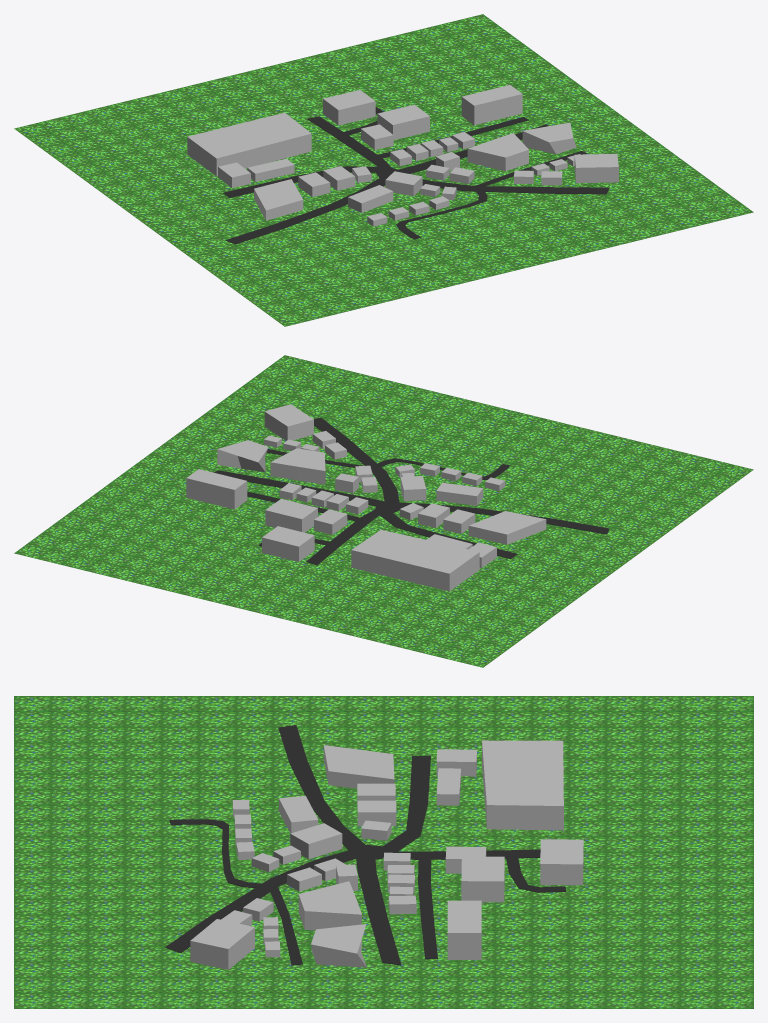
The model's file is town4b.glb.
The picture shows the model from 3 angles, top to bottom: view 1: azimuth 30°, elevation 25°; view 2: azimuth 150°, elevation 25°; view 3: azimuth 270°, elevation 25°; orthographic projection. The views are drawn at different scales.
Visible parts, largest first — view 1: Plane.001, Plane, Cube.021, Cube, Cube.011, Cube.020, Cube.024, Cube.001, Cube.034, Cube.012, Cube.016, Cube.023 (+5 smaller); view 2: Plane.001, Plane, Cube.021, Cube, Cube.020, Cube.011, Cube.024, Cube.034, Cube.001, Cube.012, Cube.016, Cube.002 (+3 smaller); view 3: Plane.001, Plane, Cube.021, Cube.020, Cube.034, Cube.011, Cube, Cube.024, Cube.001, Cube.012, Cube.013, Cube.016 (+8 smaller).
Boxes of the visible parts, x1=… form: Plane.001: x1=14, y1=14, x2=753, y2=326; Plane: x1=223, y1=107, x2=609, y2=244; Cube.021: x1=187, y1=112, x2=311, y2=176; Cube: x1=461, y1=85, x2=522, y2=125; Cube.011: x1=467, y1=133, x2=528, y2=171; Cube.020: x1=254, y1=179, x2=303, y2=220; Cube.024: x1=323, y1=90, x2=375, y2=125; Cube.001: x1=377, y1=104, x2=429, y2=139; Cube.034: x1=574, y1=153, x2=618, y2=183; Cube.012: x1=522, y1=122, x2=576, y2=154; Cube.016: x1=348, y1=185, x2=393, y2=212; Cube.023: x1=247, y1=158, x2=294, y2=181; Plane.001: x1=14, y1=355, x2=753, y2=667; Plane: x1=213, y1=417, x2=609, y2=565; Cube.021: x1=351, y1=530, x2=479, y2=591; Cube: x1=186, y1=469, x2=247, y2=509; Cube.020: x1=468, y1=511, x2=546, y2=544; Cube.011: x1=270, y1=448, x2=325, y2=484; Cube.024: x1=262, y1=526, x2=314, y2=561; Cube.034: x1=264, y1=404, x2=313, y2=440; Cube.001: x1=265, y1=498, x2=317, y2=532; Cube.012: x1=217, y1=440, x2=268, y2=472; Cube.016: x1=436, y1=482, x2=483, y2=505; Cube.002: x1=314, y1=509, x2=347, y2=534; Plane.001: x1=14, y1=696, x2=753, y2=1008; Plane: x1=165, y1=725, x2=566, y2=965; Cube.021: x1=482, y1=740, x2=563, y2=830; Cube.020: x1=323, y1=745, x2=394, y2=788; Cube.034: x1=190, y1=919, x2=254, y2=969; Cube.011: x1=298, y1=881, x2=361, y2=930; Cube: x1=447, y1=900, x2=481, y2=959; Cube.024: x1=540, y1=839, x2=583, y2=885; Cube.001: x1=461, y1=856, x2=504, y2=902; Cube.012: x1=311, y1=924, x2=366, y2=967; Cube.013: x1=290, y1=823, x2=342, y2=859; Cube.016: x1=279, y1=795, x2=318, y2=833.
Bounding box in the file's own units: 78.17 × 3.22 × 78.17.
3 materials, 1 textured.
